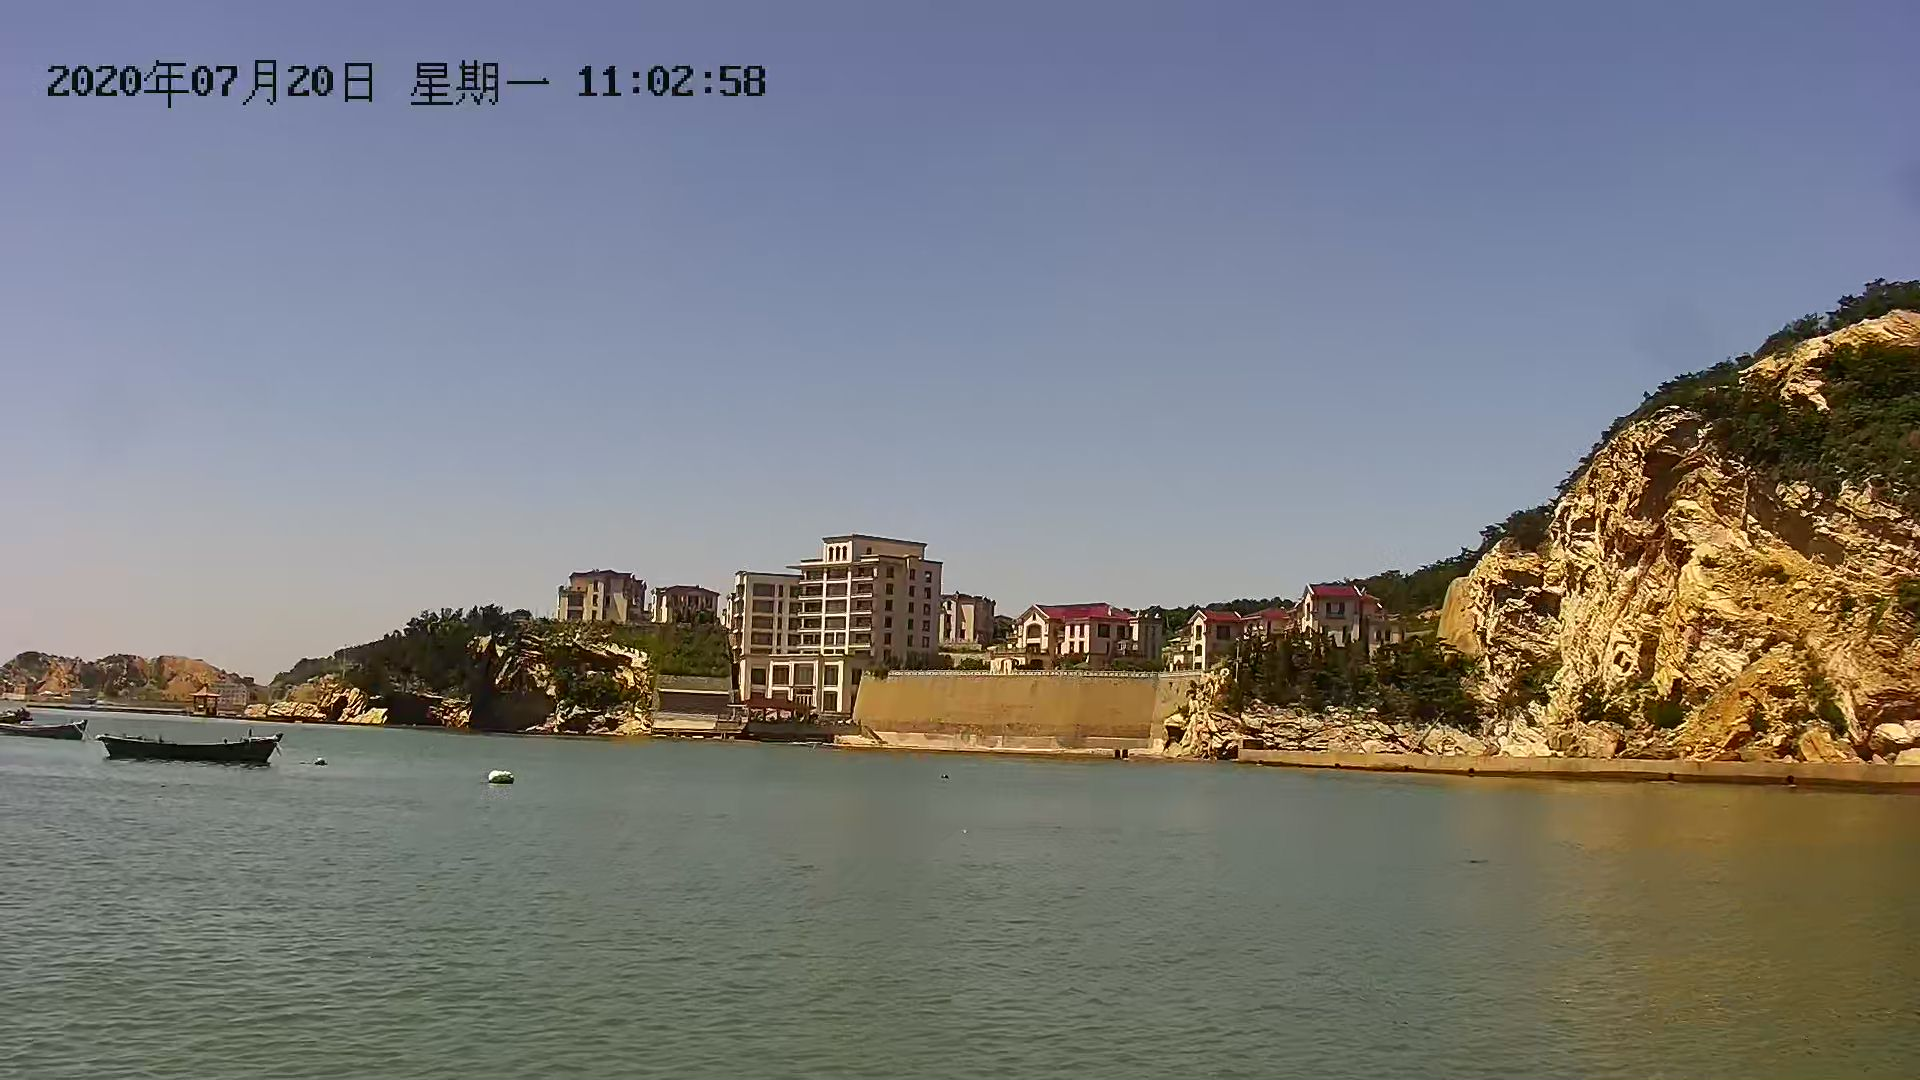boat: (100, 727, 285, 777), (1, 716, 87, 746)
rubbish: (480, 767, 520, 793)
